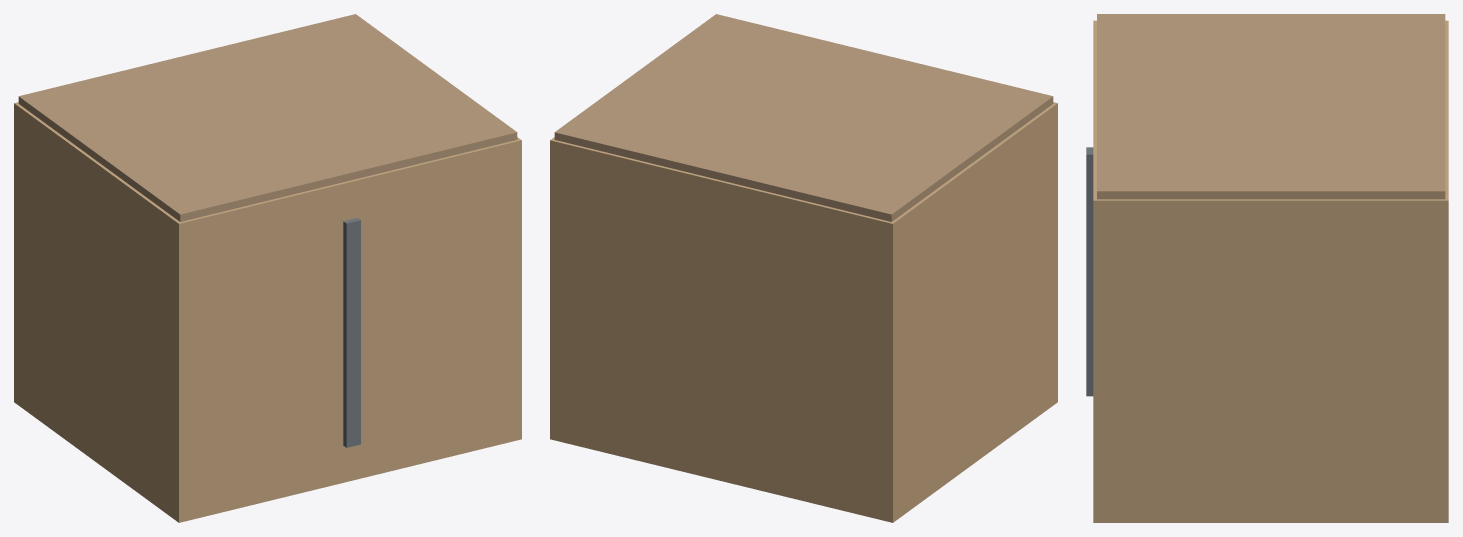
The model's file is carton_lod1.glb.
The picture shows the model from 3 angles, left to right: view 1: azimuth 30°, elevation 25°; view 2: azimuth 150°, elevation 25°; view 3: azimuth 270°, elevation 25°; orthographic projection. The views are drawn at different scales.
Parts seen in each view (by area): view 1: carton-node-0, carton-node-1, carton-node-2; view 2: carton-node-0, carton-node-1; view 3: carton-node-0, carton-node-1, carton-node-2.
Part boxes in pixels (left/top/right/bottom): carton-node-0: left=14, top=102, right=521, bottom=522; carton-node-1: left=18, top=14, right=517, bottom=221; carton-node-2: left=343, top=218, right=360, bottom=447; carton-node-0: left=550, top=102, right=1057, bottom=522; carton-node-1: left=554, top=14, right=1053, bottom=221; carton-node-0: left=1093, top=20, right=1448, bottom=522; carton-node-1: left=1097, top=14, right=1445, bottom=199; carton-node-2: left=1086, top=147, right=1093, bottom=396.
Bounding box in the file's own units: 1.2 × 1.02 × 1.02.
